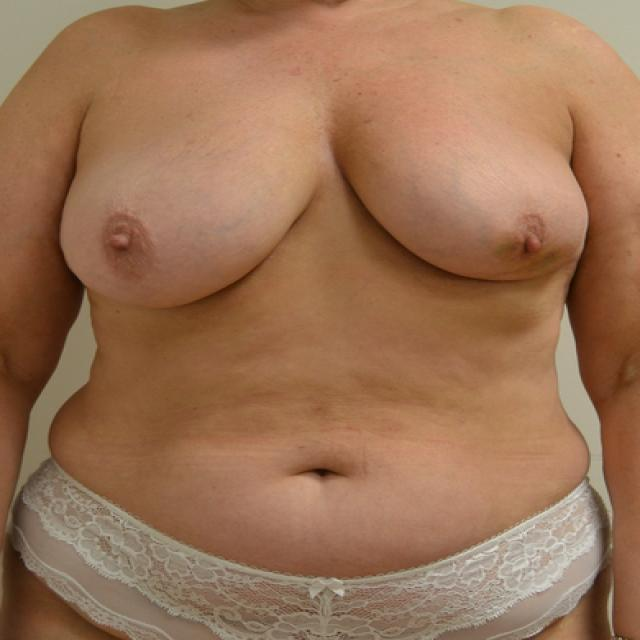Seno herido: (332, 107, 592, 316)
Seno ileso: (54, 107, 318, 315)
